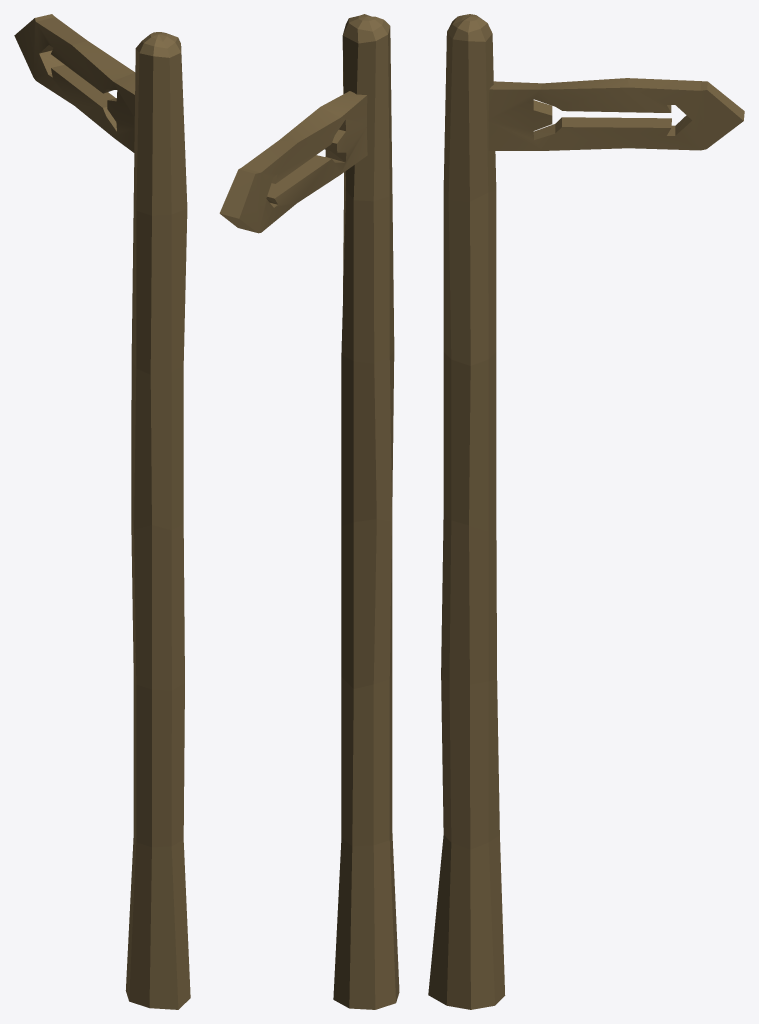
Rendered from Signpost.fbx.
3 views of the same model, side by side, from view 1: azimuth 30°, elevation 25°; view 2: azimuth 150°, elevation 25°; view 3: azimuth 270°, elevation 25° (orthographic).
Parts seen in each view (by area): view 1: pCube5; view 2: pCube5; view 3: pCube5.
Boxes of the visible parts, <box> form: pCube5: <box>14,14,190,1009</box>; pCube5: <box>219,14,399,1009</box>; pCube5: <box>428,14,744,1009</box>.
Size of the model in its own units: 1.36 by 21.53 by 6.31.
